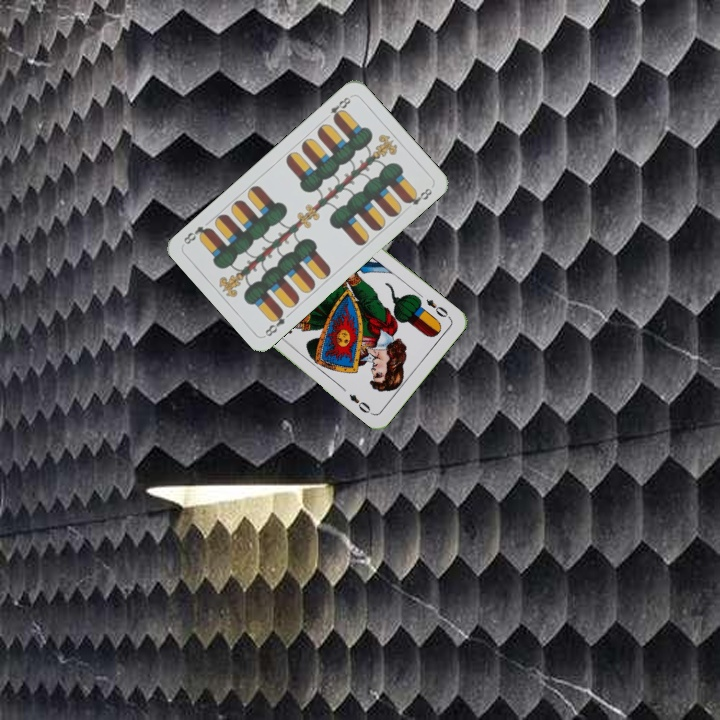E8: (261, 306, 288, 339), (326, 92, 354, 123)
EO: (422, 295, 453, 322)
